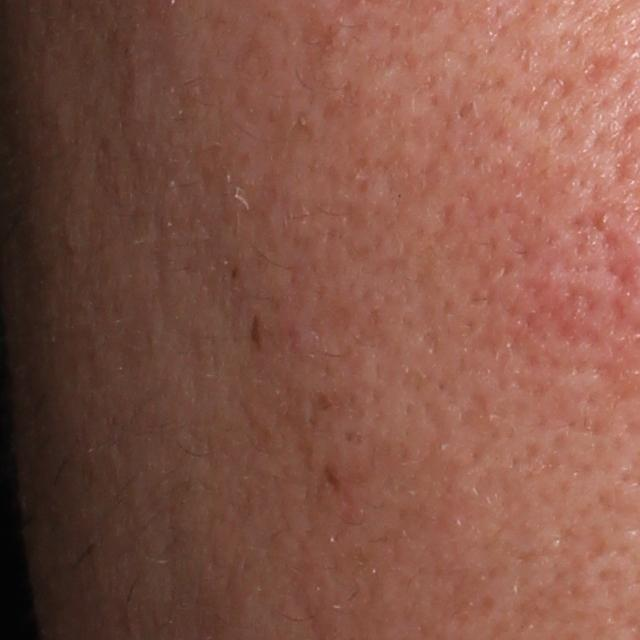atrophic_scar: (586, 211, 636, 287), (584, 52, 620, 86)
